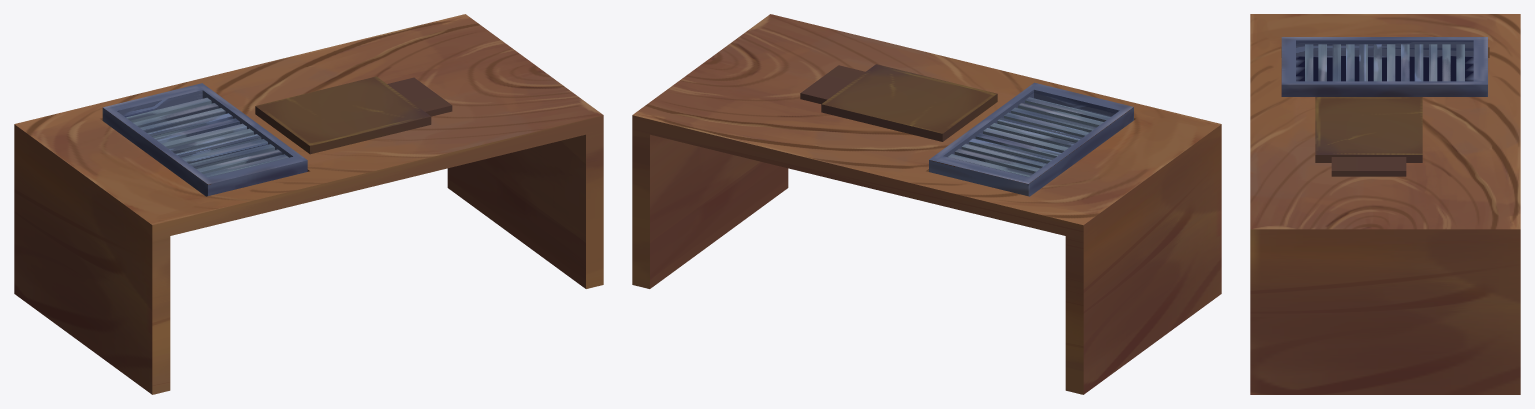
The model's file is Table.fbx.
3 renders of one model, left to right at view 1: azimuth 30°, elevation 25°; view 2: azimuth 150°, elevation 25°; view 3: azimuth 270°, elevation 25°, orthographic. The views are drawn at different scales.
Visible parts, largest first — view 1: Mesa, tabla, Grill, Marco; view 2: Mesa, tabla, Marco, Grill; view 3: Mesa, Marco, tabla, Grill.
Part boxes in pixels (x1,y1,x2,y2): Mesa: [14, 14, 603, 394]; tabla: [255, 76, 452, 154]; Grill: [126, 97, 288, 177]; Marco: [102, 83, 307, 196]; Mesa: [632, 14, 1221, 394]; tabla: [800, 64, 997, 141]; Marco: [929, 82, 1133, 196]; Grill: [948, 97, 1110, 176]; Mesa: [1250, 14, 1520, 394]; Marco: [1281, 37, 1487, 96]; tabla: [1315, 97, 1422, 176]; Grill: [1305, 44, 1464, 81].
Bounding box in the file's own units: 1792 × 687 × 951.
1 material, 1 textured.
